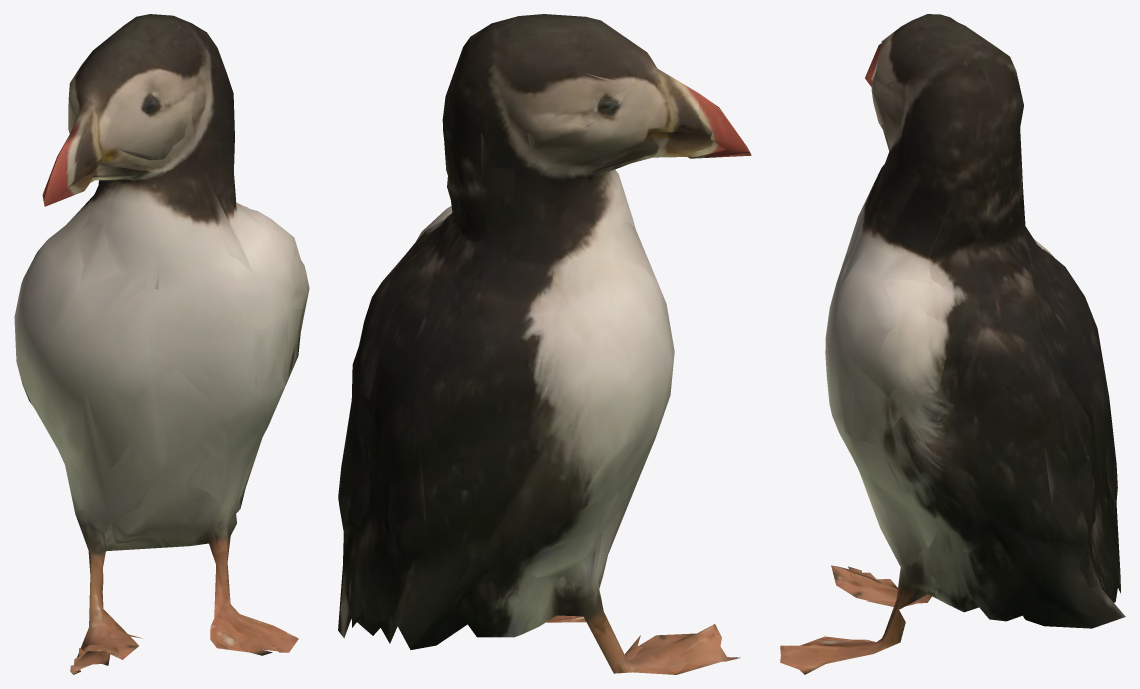
Rendered from puffin.glb.
3 renders of one model, left to right at view 1: azimuth 30°, elevation 25°; view 2: azimuth 150°, elevation 25°; view 3: azimuth 270°, elevation 25°, orthographic. The views are drawn at different scales.
Parts seen in each view (by area): view 1: Object_2, Object_2_lod; view 2: Object_2, Object_2_lod; view 3: Object_2, Object_2_lod.
Boxes of the visible parts, x1,y1,x2,y2 form: Object_2: (14, 14, 309, 674); Object_2_lod: (36, 17, 308, 671); Object_2: (338, 14, 751, 674); Object_2_lod: (341, 20, 731, 674); Object_2: (780, 14, 1125, 662); Object_2_lod: (781, 19, 1125, 674).
Bounding box in the file's own units: 1.39 × 2.7 × 1.38.
1 material, 1 textured.
